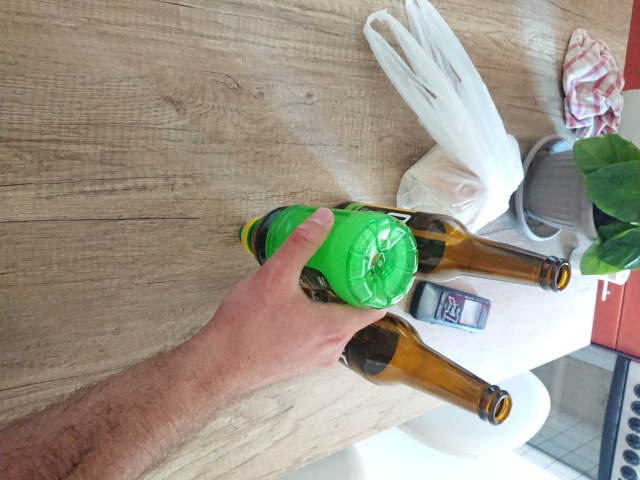Vindi Iso Sport Lemon-Grapefruit 500mL: (235, 202, 423, 313)
